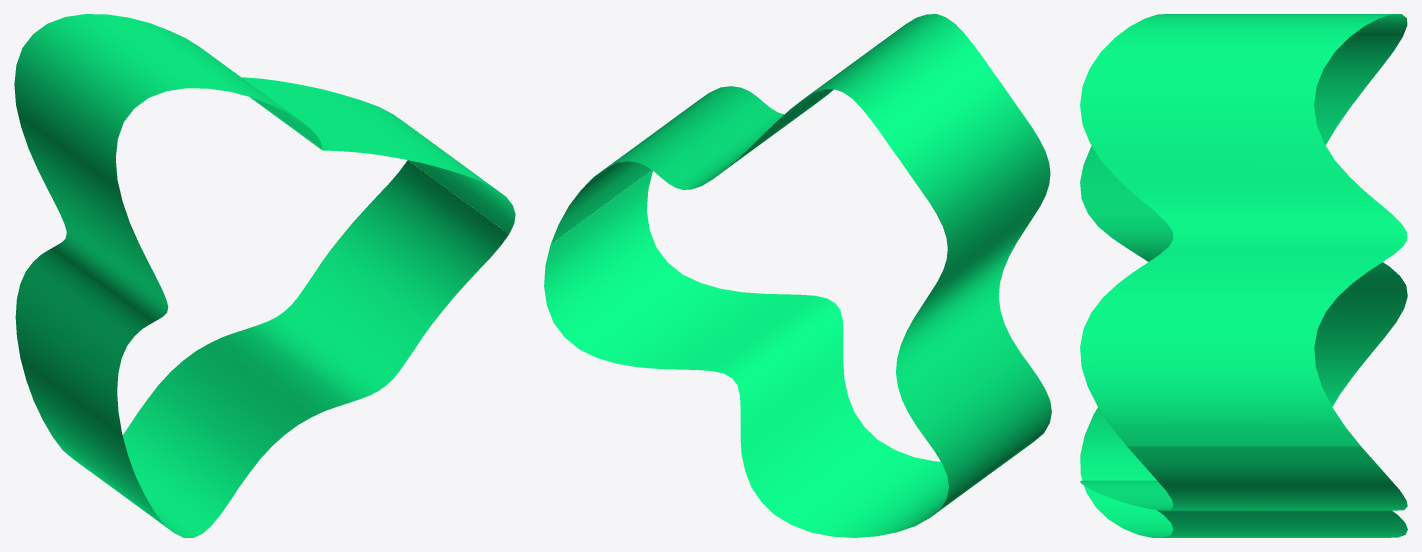
Rendered from geodesic_flow_surface_ar_universal.glb.
3 renders of one model, left to right at view 1: azimuth 30°, elevation 25°; view 2: azimuth 150°, elevation 25°; view 3: azimuth 270°, elevation 25°, orthographic. The views are drawn at different scales.
Parts seen in each view (by area): view 1: geodesic_flow_surface_ar; view 2: geodesic_flow_surface_ar; view 3: geodesic_flow_surface_ar.
Part boxes in pixels (<box>): geodesic_flow_surface_ar: <box>14,14,515,537</box>; geodesic_flow_surface_ar: <box>544,14,1051,537</box>; geodesic_flow_surface_ar: <box>1080,14,1407,537</box>.
Size of the model in its own units: 0.9232 by 1 by 0.5915.
